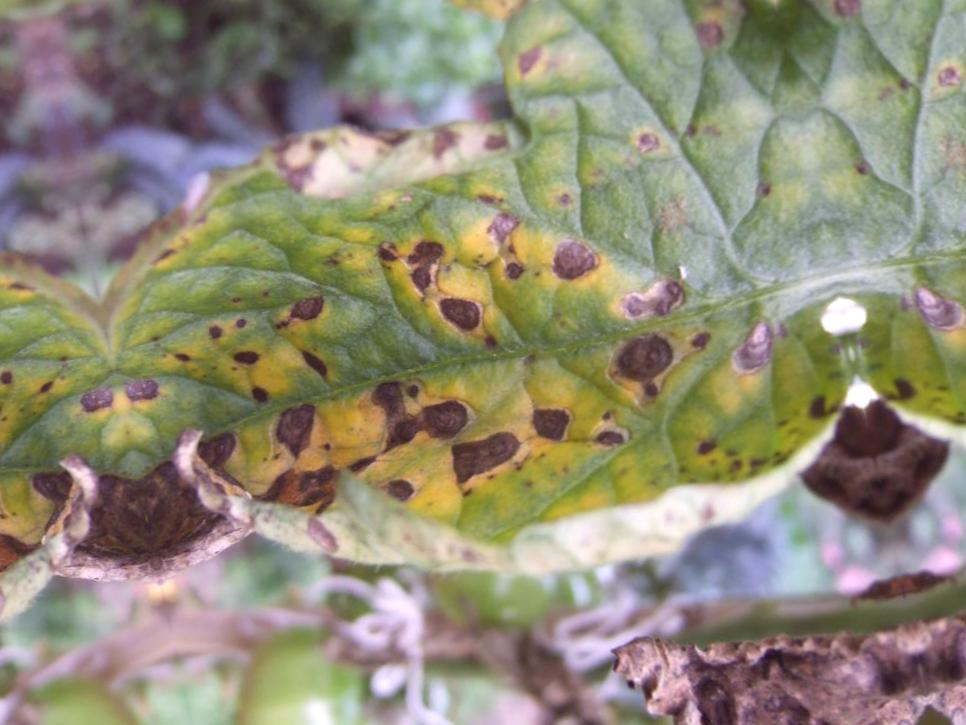Tomato Early blight leaf: (60, 0, 868, 619)
